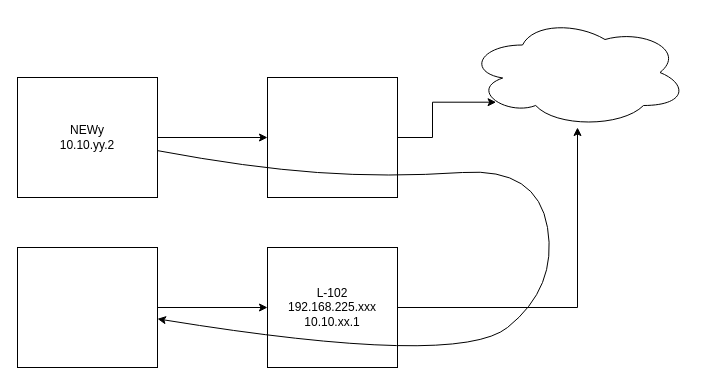
Some shapes in this 705 by 385 pixel diagram are drawn without their labels. The shapes that lost their labels are listed below. From the top down, each one's centre as x and y in pixels, then its label:
pixel 332 137: L-102 192.168.225.yyy 10.10.yy.1
pixel 87 307: NEWy 10.10.xx.2
